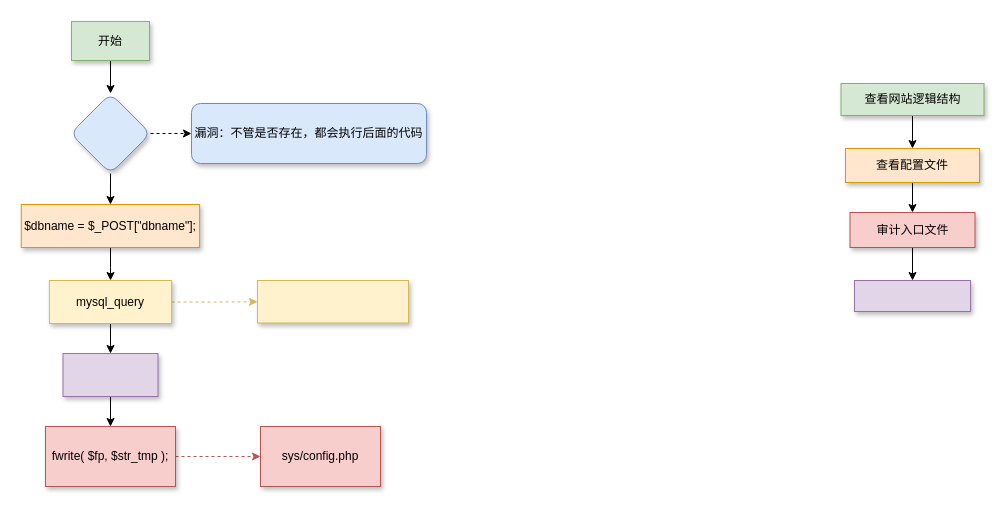
Some shapes in this 1008 by 511 pixel diagram are drawn without their labels. Each missing label, with the centre of its shape:
"$str_tmp" belongs at point 111,376.
"error，则die 退出脚本" belongs at point 333,303.
"判断install.lock是否存在" belongs at point 111,134.
"审计关键代码" belongs at point 913,297.
